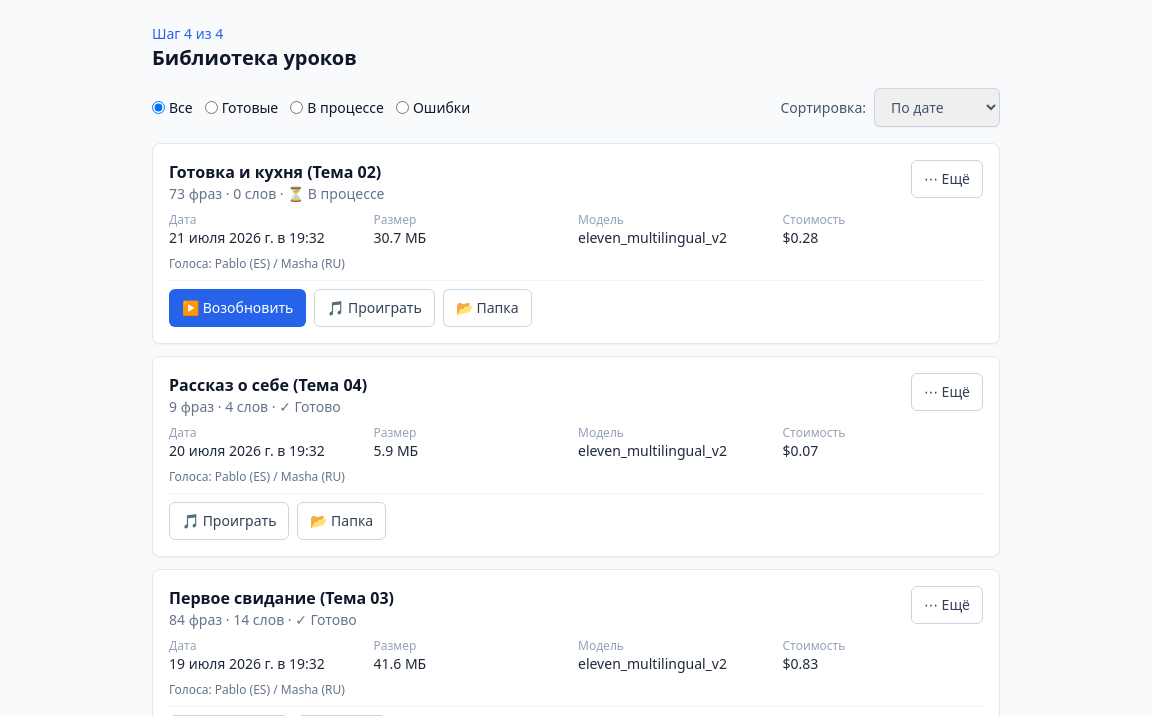
Test case: LessonCard — подтверждение перед удалением урока (мульти-верификаторное ревью, LessonCard.tsx:102) › РЕГРЕССИЯ: подтверждение в confirm() -> урок удаляется как раньше, карточка пропадает
This screenshot has width=1152, height=716.
Click the button "⋯ Ещё" in the row of "⏳ В процессе". click: [947, 179]
box: [911,160,983,198]
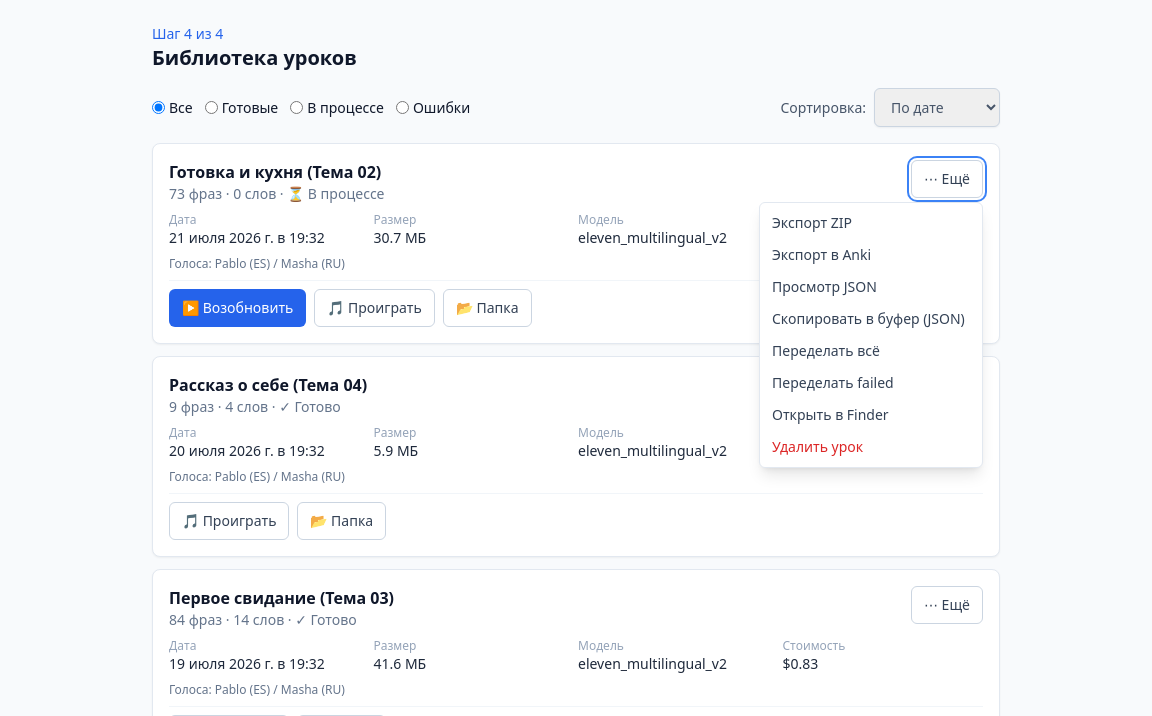
Click the button "Удалить урок". click: [871, 447]
box: [760,431,982,463]
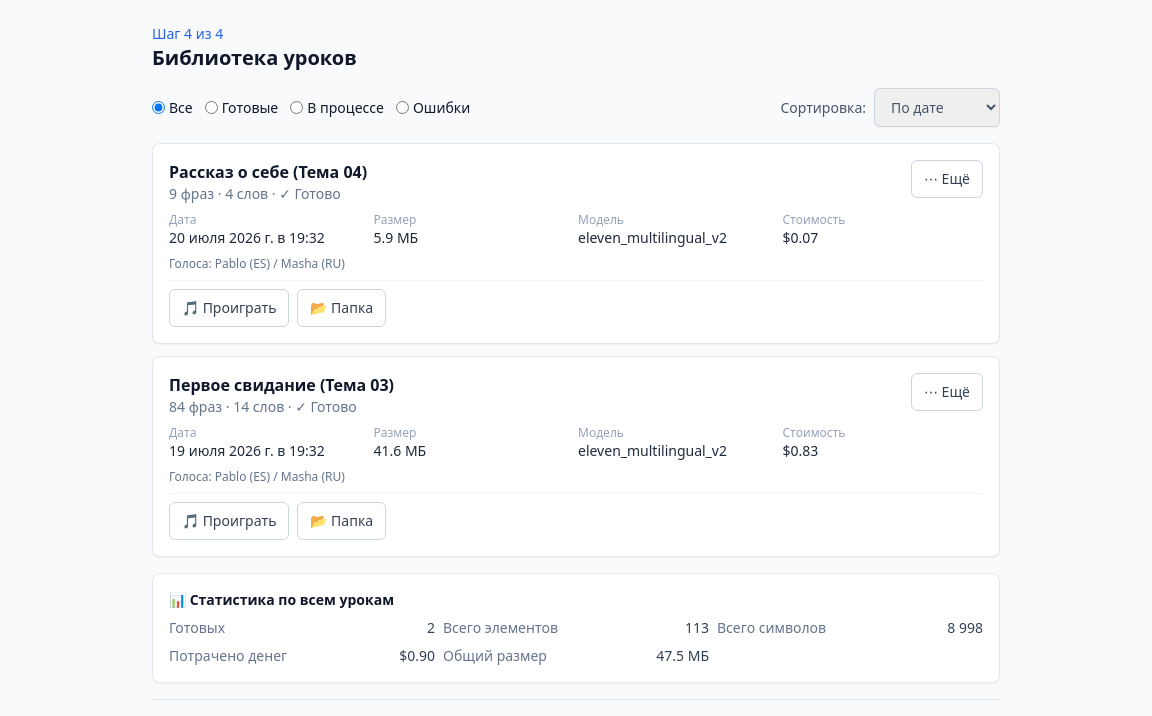
Result: the number of buttons "⋯ Ещё" is 2 at [911,160,983,198]; [911,373,983,411]
